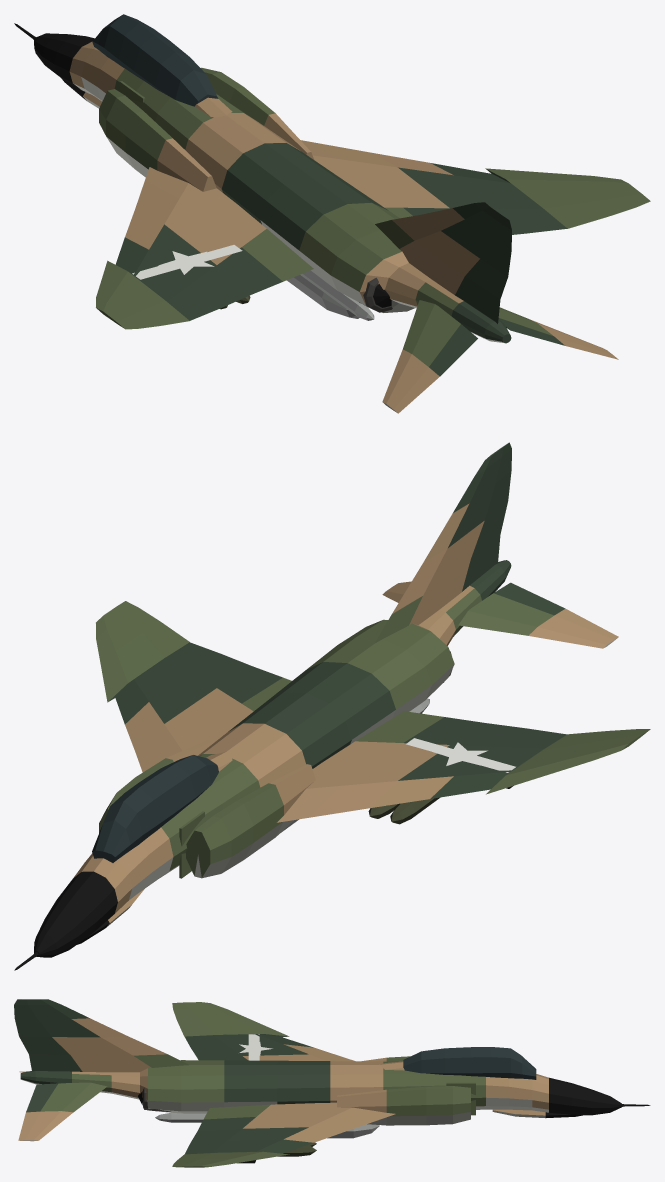
Rendered from f4_phantom_v2.glb.
3 views of the same model, one above another, from view 1: azimuth 30°, elevation 25°; view 2: azimuth 150°, elevation 25°; view 3: azimuth 270°, elevation 25° (orthographic). The views are drawn at different scales.
Visible parts, largest first — view 1: F4_Airframe, F4_Stores, F4_Markings; view 2: F4_Airframe, F4_Markings, F4_Stores; view 3: F4_Airframe, F4_Stores, F4_Markings.
Part boxes in pixels (x1=…): F4_Airframe: x1=14, y1=14, x2=650, y2=413; F4_Stores: x1=220, y1=270, x2=374, y2=320; F4_Markings: x1=132, y1=245, x2=242, y2=279; F4_Airframe: x1=14, y1=442, x2=650, y2=970; F4_Markings: x1=406, y1=738, x2=515, y2=772; F4_Stores: x1=281, y1=698, x2=513, y2=832; F4_Airframe: x1=14, y1=999, x2=650, y2=1167; F4_Stores: x1=155, y1=1112, x2=379, y2=1163; F4_Markings: x1=239, y1=1034, x2=272, y2=1060.
Size of what is drawn, in the model's own units: 11.71 by 4.61 by 19.23.
